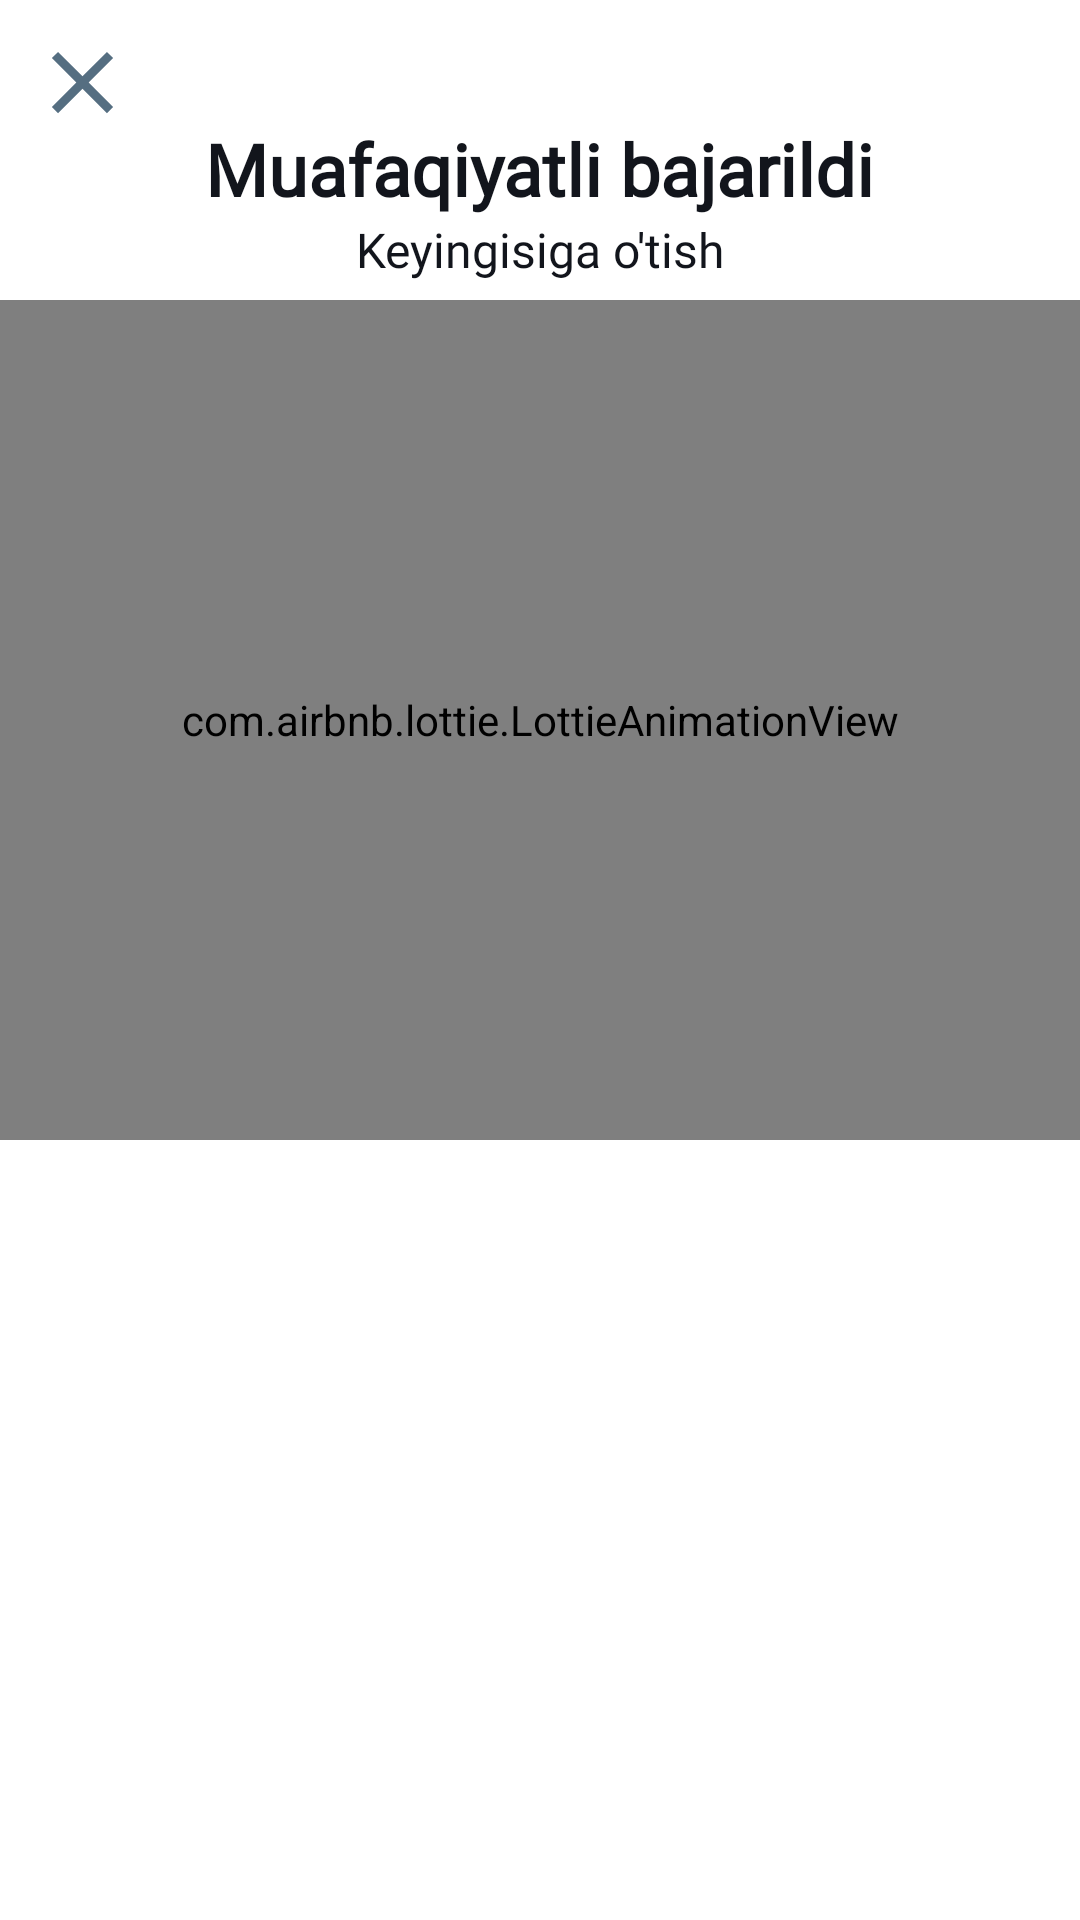

Locate icon controls on the screen. Image size 1080x1920, boxes as (x1, y1, x2, y2).
close: (52, 52, 113, 113)
